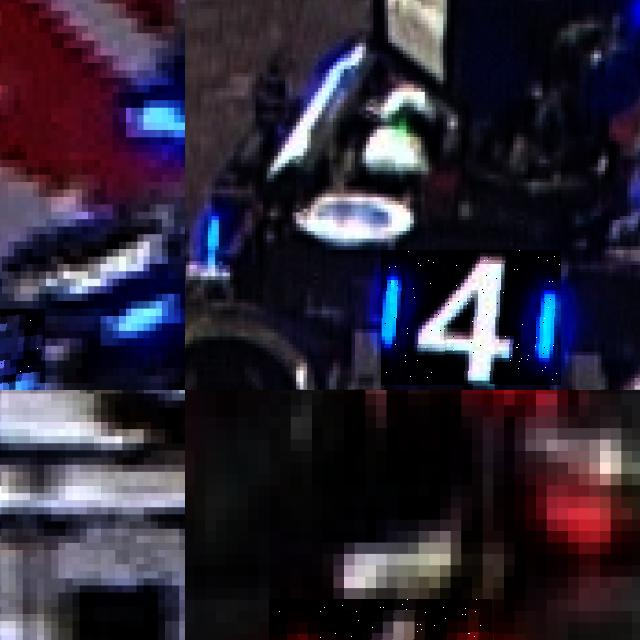B3: (0, 308, 45, 390)
B4: (381, 250, 561, 385)
R4: (269, 599, 493, 640)
